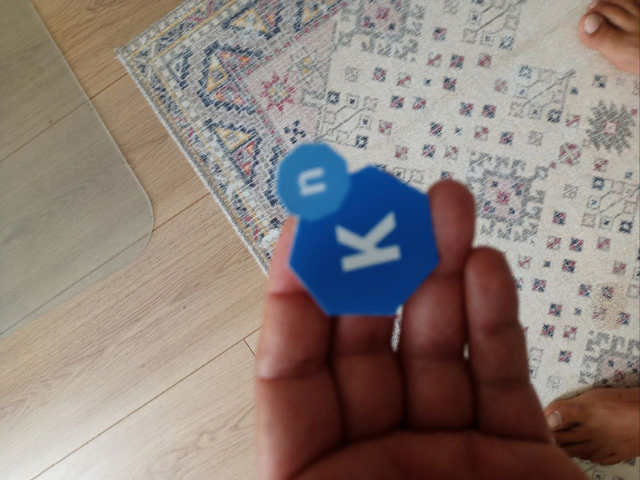knative: (276, 142, 441, 317)
